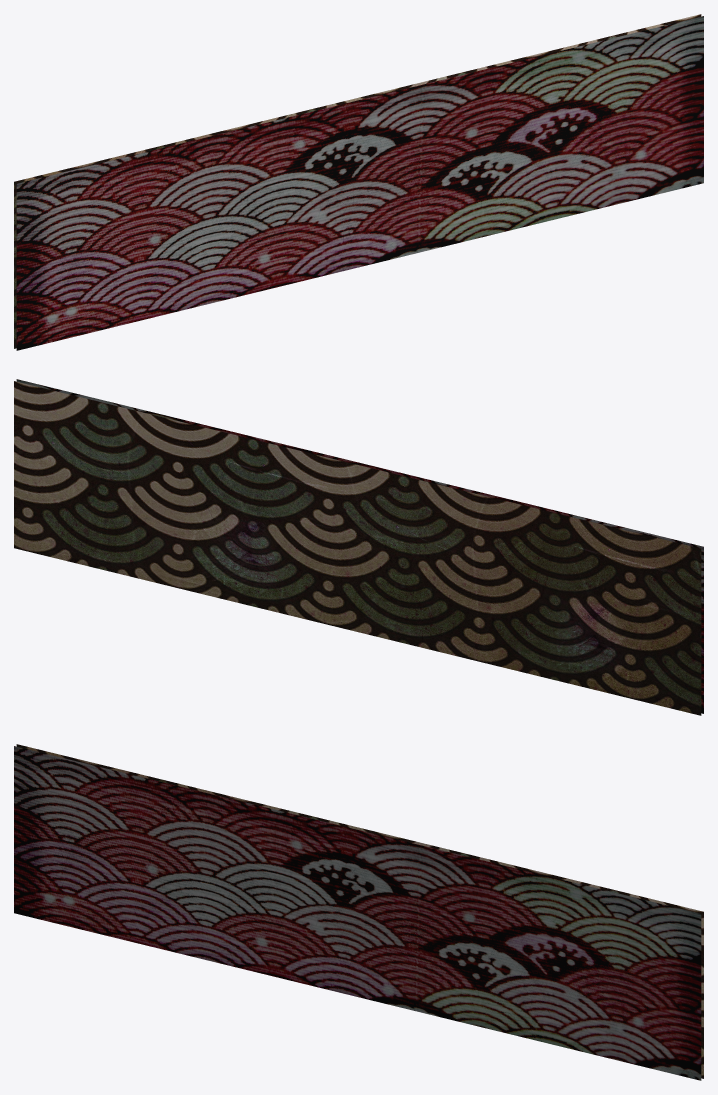
File: GodWall_Banner01.FBX
The picture shows the model from 3 angles, top to bottom: view 1: azimuth 30°, elevation 25°; view 2: azimuth 150°, elevation 25°; view 3: azimuth 330°, elevation 25°; orthographic projection.
Visible parts, largest first — view 1: GodWall_Banner01; view 2: GodWall_Banner01; view 3: GodWall_Banner01.
Part boxes in pixels (box(x1,y1,x2,y2)): GodWall_Banner01: box(14, 14, 703, 350); GodWall_Banner01: box(14, 379, 703, 715); GodWall_Banner01: box(14, 744, 703, 1080).
Bounding box in the file's own units: 1.79 × 0.417 × 0.012.
